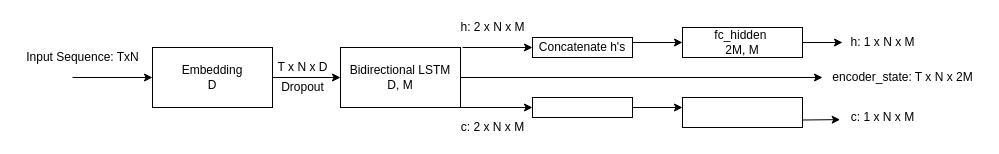
The diagram is 999 pixels wide and 154 high, and some of its shapes have lost their labels. Each missing label, with the centre of its shape:
"Concatenate c's" goes at point (582, 107).
"fc_cell 2M, M" goes at point (742, 112).
